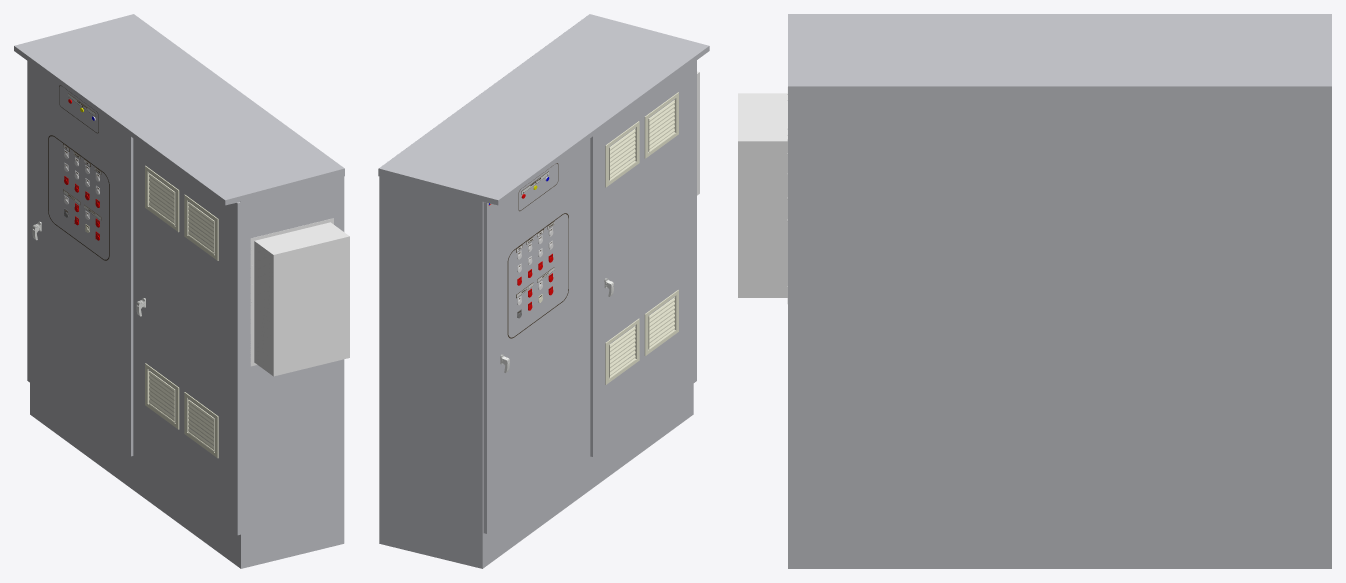
File: SpecialProj_AHU.fbx
The picture shows the model from 3 angles, left to right: view 1: azimuth 30°, elevation 25°; view 2: azimuth 150°, elevation 25°; view 3: azimuth 270°, elevation 25°; orthographic projection. The views are drawn at different scales.
Visible parts, largest first — view 1: Group641, Group631, Group644, Group638, Group637, Group664, Group659, Group665, Group666; view 2: Group641, Group631, Group644, Group637, Group666, Group664, Group659, Group665; view 3: Group641, Group637, Group638.
Boxes of the visible parts, left/top/right/bottom form: Group641: left=14, top=14, right=344, bottom=536; Group631: left=133, top=138, right=240, bottom=535; Group644: left=27, top=61, right=133, bottom=456; Group638: left=250, top=218, right=349, bottom=376; Group637: left=30, top=383, right=344, bottom=568; Group664: left=145, top=363, right=179, bottom=429; Group659: left=184, top=392, right=218, bottom=458; Group665: left=184, top=194, right=218, bottom=260; Group666: left=145, top=165, right=179, bottom=232; Group641: left=378, top=14, right=709, bottom=536; Group631: left=590, top=60, right=696, bottom=456; Group644: left=483, top=138, right=590, bottom=533; Group637: left=379, top=384, right=693, bottom=568; Group666: left=605, top=121, right=639, bottom=187; Group664: left=605, top=318, right=639, bottom=384; Group659: left=644, top=290, right=678, bottom=356; Group665: left=644, top=92, right=678, bottom=158; Group641: left=788, top=14, right=1331, bottom=526; Group637: left=788, top=527, right=1331, bottom=568; Group638: left=738, top=87, right=787, bottom=303.
Size of the model in its own units: 25.39 by 75.89 by 84.5.
